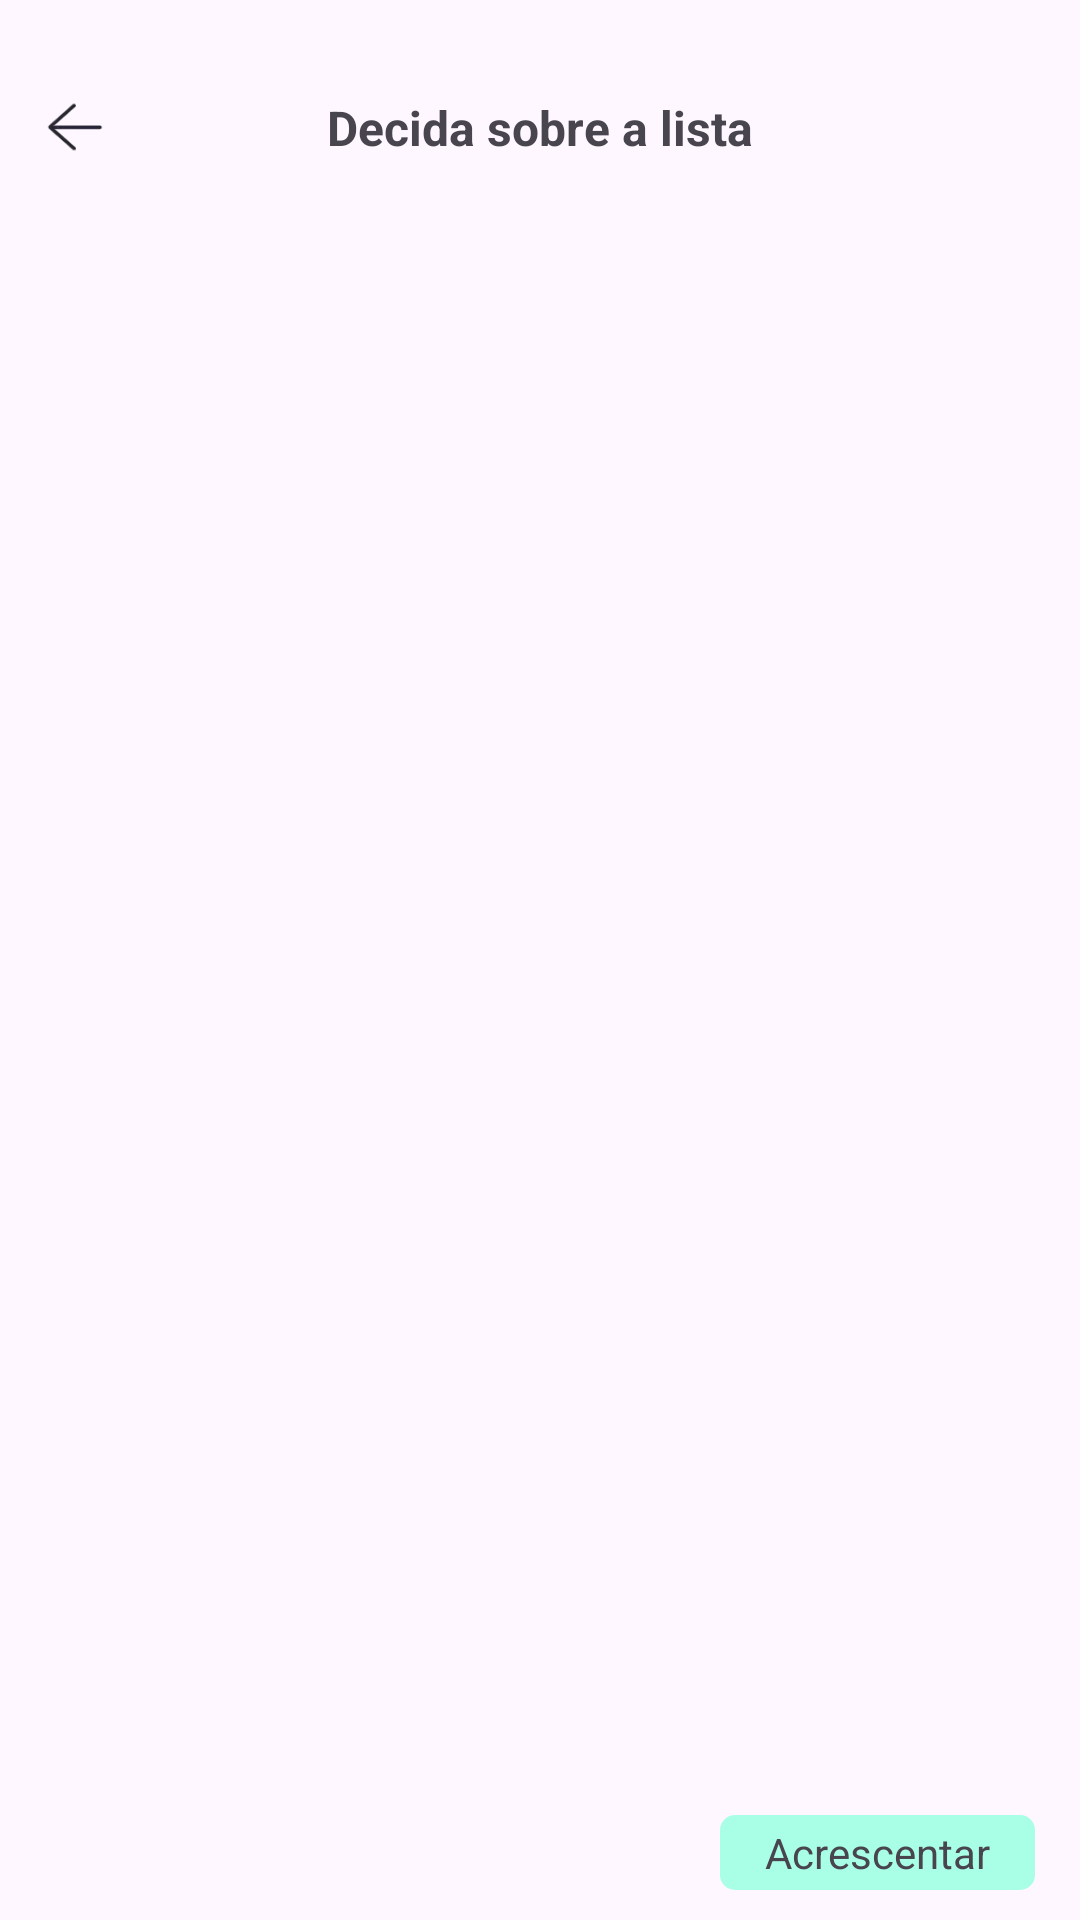

Point at icon controls on the screen. Image size 1080*1920, points as (x,y).
fanhui: (75,127)
